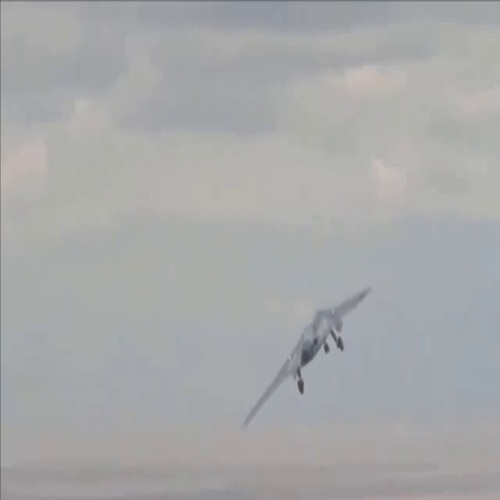uav952: (241, 284, 371, 430)
